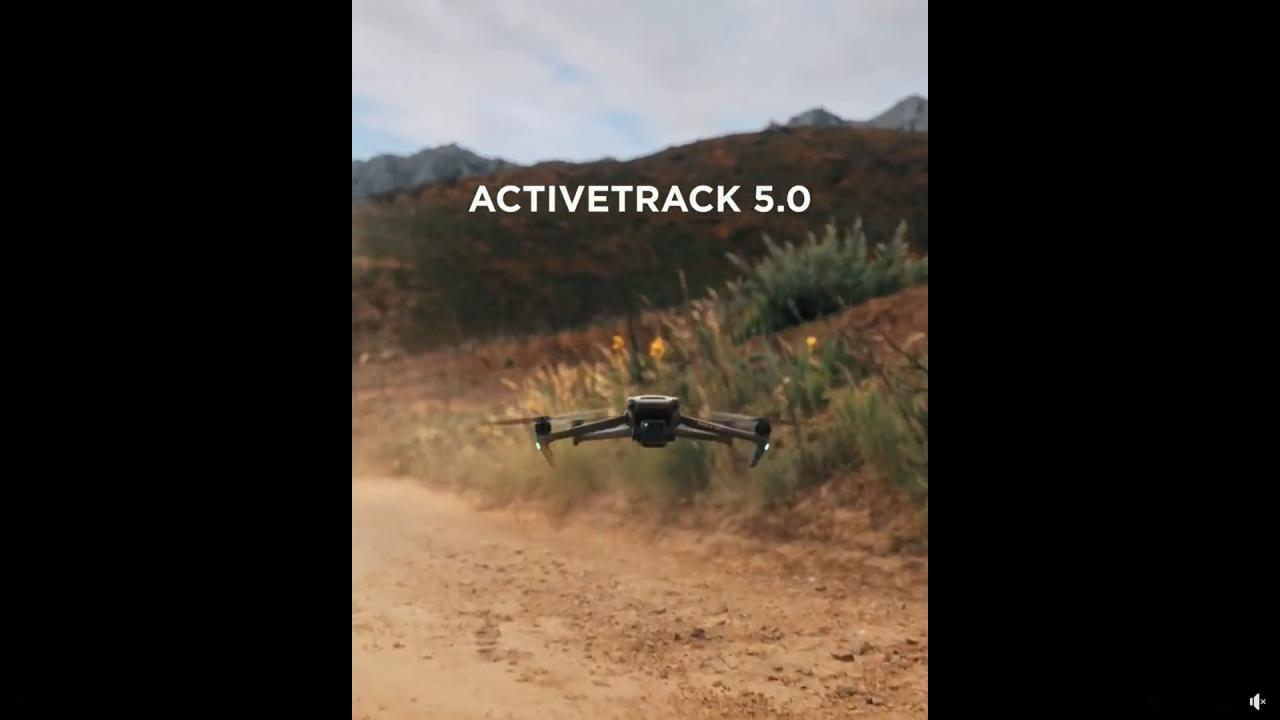Drone: (469, 376, 842, 489)
